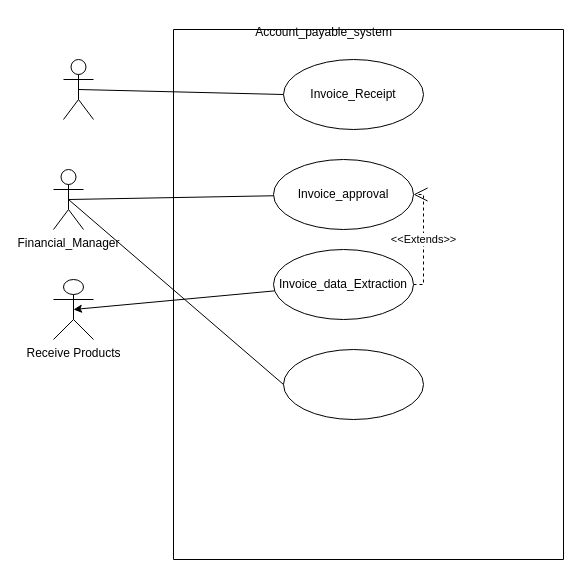
This 581x577 diagram has some shape labels left out. The shapes that lost their labels are listed below. From the top down, each one's centre as x and y in pixels, then its label:
the point at 78,89: Supplyers,customers
the point at 353,384: Payment_processing
